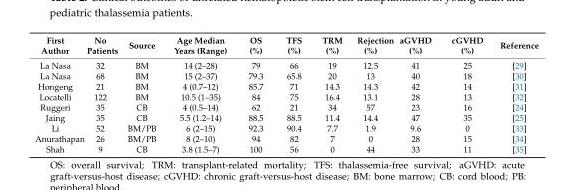table: (34, 34, 537, 153)
table column: (164, 34, 236, 153), (34, 34, 84, 153), (440, 34, 490, 153), (490, 34, 537, 153), (349, 34, 395, 153), (395, 34, 440, 153), (122, 34, 164, 153), (84, 34, 122, 153), (236, 34, 274, 153), (311, 34, 349, 153), (274, 34, 311, 153)
table column header: (34, 34, 537, 57)
table row: (34, 34, 537, 57), (34, 57, 537, 70), (34, 80, 537, 91), (34, 101, 537, 112), (34, 132, 537, 143), (34, 70, 537, 80), (34, 91, 537, 101), (34, 112, 537, 122), (34, 122, 537, 132), (34, 143, 537, 153)
